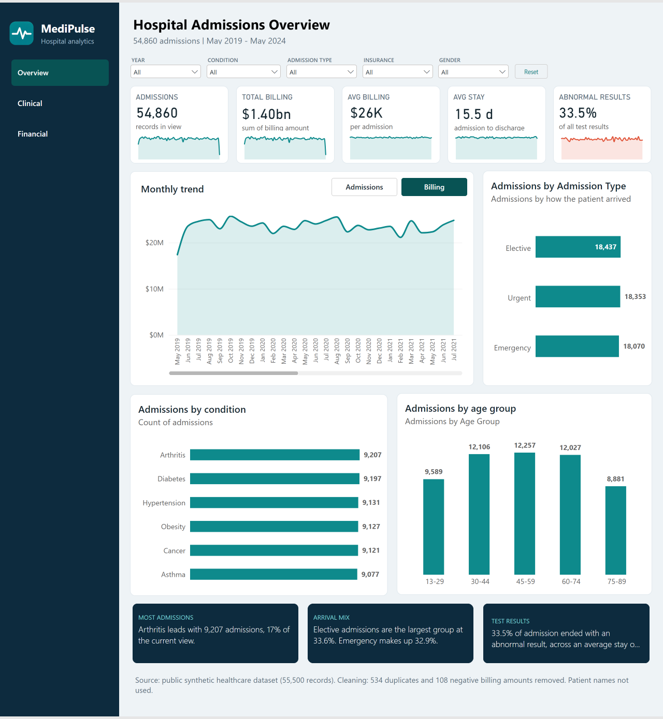

The page's visual inventory and layout, read from the dashboard file:
{"tool":"powerbi","page":{"name":"Overview","canvas":[1280,1380],"ordinal":0},"visuals":[{"type":"textbox","box":[247,15,489,53],"z":0,"group":"g1"},{"type":"image","box":[8.9,27.9,66,62],"z":0,"group":"g7"},{"type":"slicer","title":"YEAR","fields":{"Values":["Dim_Date.Year"]},"box":[247.5,115,146,37],"z":0,"group":"g2"},{"type":"slicer","title":"YEAR","fields":{"Values":["Fact_Admissions.Medical Condition"]},"box":[394.2,115,153,37],"z":0,"group":"g3"},{"type":"slicer","title":"YEAR","fields":{"Values":["Fact_Admissions.Admission Type"]},"box":[548,115,146,37],"z":0,"group":"g4"},{"type":"slicer","title":"YEAR","fields":{"Values":["Fact_Admissions.Insurance Provider"]},"box":[694.7,115,146,37],"z":0,"group":"g5"},{"type":"slicer","title":"YEAR","fields":{"Values":["Fact_Admissions.Gender"]},"box":[841.5,115,146,37],"z":0,"group":"g6"},{"type":"shape","title":"ADMISSIONS","box":[251.4,161,190,150],"z":0,"group":"g12"},{"type":"shape","title":"TOTAL BILLING","box":[455.6,161,190,150],"z":0,"group":"g8"},{"type":"shape","title":"AVG BILLING","box":[659.8,161,190,150],"z":0,"group":"g9"},{"type":"shape","title":"AVG STAY","box":[863.9,161,190,150],"z":0,"group":"g10"},{"type":"shape","title":"ABNORMAL RESULTS","box":[1068.1,161,189.4,150],"z":0,"group":"g11"},{"type":"shape","title":"Monthly  trend","box":[251.1,325.7,663.8,415],"z":0},{"type":"shape","box":[0,0,230,1380],"z":1000},{"type":"textbox","box":[69.4,26.7,152.9,64.4],"z":1000,"group":"g7"},{"type":"textbox","box":[247.2,54.3,492.5,26.2],"z":1000,"group":"g1"},{"type":"textbox","box":[254.3,99,132.3,20.7],"z":1000,"group":"g2"},{"type":"textbox","box":[401.4,99,138.7,20.7],"z":1000,"group":"g3"},{"type":"textbox","box":[554.8,99,132.3,20.7],"z":1000,"group":"g4"},{"type":"textbox","box":[701.5,99,132.3,20.7],"z":1000,"group":"g5"},{"type":"textbox","box":[848.3,99,132.3,20.7],"z":1000,"group":"g6"},{"type":"cardVisual","fields":{"Data":["Measures Table.Admissions"]},"box":[257.8,194.9,129.7,54.3],"z":1000,"group":"g12"},{"type":"cardVisual","fields":{"Data":["Measures Table.Avg Billing"]},"box":[666.2,194.9,129.7,54.3],"z":1000,"group":"g9"},{"type":"cardVisual","fields":{"Data":["Measures Table.Adnormal Rate"]},"box":[1074.5,194.9,129.4,54.3],"z":1000,"group":"g11"},{"type":"cardVisual","fields":{"Data":["Measures Table.Total Billing"]},"box":[461.9,201.1,162.2,47.8],"z":1000,"group":"g8"},{"type":"cardVisual","fields":{"Data":["Measures Table.Avg LOS"]},"box":[872,201.1,153.3,47.8],"z":1000,"group":"g10"},{"type":"group","id":"g1","title":"Group 1","box":[247,15,492.7,65.5],"z":2000},{"type":"lineChart","fields":{"Category":["Dim_Date.Month Start"],"Y":["Measures Table.Admissions"]},"box":[257.9,249.5,176.8,54.3],"z":2000,"group":"g12"},{"type":"lineChart","fields":{"Category":["Dim_Date.Month Start"],"Y":["Measures Table.Total Billing"]},"box":[462.1,249.5,176.8,54.3],"z":2000,"group":"g8"},{"type":"lineChart","fields":{"Category":["Dim_Date.Month Start"],"Y":["Measures Table.Avg Billing"]},"box":[666.3,249.5,176.8,54.3],"z":2000,"group":"g9"},{"type":"lineChart","fields":{"Category":["Dim_Date.Month Start"],"Y":["Measures Table.Avg LOS"]},"box":[870.4,249.5,176.8,54.3],"z":2000,"group":"g10"},{"type":"lineChart","fields":{"Category":["Dim_Date.Month Start"],"Y":["Measures Table.Adnormal Rate"]},"box":[1074.6,249.5,176.3,54.3],"z":2000,"group":"g11"},{"type":"group","id":"g2","title":"Group 2","box":[247.5,99,146,53],"z":3000},{"type":"group","id":"g3","title":"Group 2","box":[394.2,99,153,53],"z":4000},{"type":"group","id":"g4","title":"Group 2","box":[548,99,146,53],"z":5000},{"type":"group","id":"g5","title":"Group 2","box":[694.7,99,146,53],"z":6000},{"type":"group","id":"g6","title":"Group 2","box":[841.5,99,146,53],"z":7000},{"type":"actionButton","box":[992.7,118.2,65.5,30],"z":8000},{"type":"group","id":"g7","title":"Group 3","box":[8.9,26.7,213.3,64.4],"z":9000},{"type":"group","id":"g8","title":"Group 4","box":[455.6,161,190,150],"z":10000},{"type":"group","id":"g9","title":"Group 4","box":[659.8,161,190,150],"z":11000},{"type":"group","id":"g10","title":"Group 4","box":[863.9,161,190,150],"z":12000},{"type":"group","id":"g11","title":"Group 4","box":[1068.1,161,190,150],"z":13000},{"type":"group","id":"g12","title":"Group 4","box":[251.4,161,190,150],"z":14000},{"type":"areaChart","fields":{"Category":["Dim_Date.Month Label"],"Y":["Measures Table.Total Billing"]},"box":[269.9,395.7,632.5,332.5],"z":15000},{"type":"advancedSlicerVisual","fields":{"Values":["Trend Metric.Trend Metric"]},"box":[639.9,339.4,262.5,35],"z":16000},{"type":"clusteredBarChart","fields":{"Category":["Fact_Admissions.Admission Type"],"Y":["Measures Table.Admissions"]},"box":[931.6,325.4,327,416],"z":17000},{"type":"clusteredBarChart","title":"Admissions by condition","fields":{"Category":["Fact_Admissions.Medical Condition"],"Y":["Measures Table.Admissions"]},"box":[251.1,756.6,497.3,390],"z":18000},{"type":"clusteredColumnChart","title":"Admissions by age group","fields":{"Category":["Fact_Admissions.Age Group"],"Y":["Measures Table.Admissions"]},"box":[765.9,755.3,492.9,390],"z":19000},{"type":"cardVisual","fields":{"Data":["Measures Table.Insight - Most Admissions"]},"box":[251.1,1156.7,330,125.6],"z":20000},{"type":"cardVisual","fields":{"Data":["Measures Table.Insight - Arrival Mix"]},"box":[588.9,1156.7,330,125.6],"z":21000},{"type":"cardVisual","fields":{"Data":["Measures Table.Insight - Test Results"]},"box":[927.8,1156.7,331.1,125.6],"z":22000},{"type":"pageNavigator","box":[12,102,208,187],"z":23000},{"type":"textbox","box":[251.1,1291.1,1007.8,62.2],"z":23001}]}

Visuals, with their boxes on the page's 1280x1380 design canvas (x1, y1, x2, y2). These are canvas units, not pixel positions in the 663x719 screenshot, which may show the page scaled, cropped or inside an application window:
textbox: box(247, 15, 736, 68)
image: box(9, 28, 75, 90)
"YEAR" slicer: box(248, 115, 394, 152)
"YEAR" slicer: box(394, 115, 547, 152)
"YEAR" slicer: box(548, 115, 694, 152)
"YEAR" slicer: box(695, 115, 841, 152)
"YEAR" slicer: box(842, 115, 988, 152)
"ADMISSIONS" shape: box(251, 161, 441, 311)
"TOTAL BILLING" shape: box(456, 161, 646, 311)
"AVG BILLING" shape: box(660, 161, 850, 311)
"AVG STAY" shape: box(864, 161, 1054, 311)
"ABNORMAL RESULTS" shape: box(1068, 161, 1258, 311)
"Monthly  trend" shape: box(251, 326, 915, 741)
shape: box(0, 0, 230, 1380)
textbox: box(69, 27, 222, 91)
textbox: box(247, 54, 740, 80)
textbox: box(254, 99, 387, 120)
textbox: box(401, 99, 540, 120)
textbox: box(555, 99, 687, 120)
textbox: box(702, 99, 834, 120)
textbox: box(848, 99, 981, 120)
cardVisual - Measures Table.Admissions: box(258, 195, 388, 249)
cardVisual - Measures Table.Avg Billing: box(666, 195, 796, 249)
cardVisual - Measures Table.Adnormal Rate: box(1074, 195, 1204, 249)
cardVisual - Measures Table.Total Billing: box(462, 201, 624, 249)
cardVisual - Measures Table.Avg LOS: box(872, 201, 1025, 249)
"Group 1" group: box(247, 15, 740, 80)
lineChart - Dim_Date.Month Start x Measures Table.Admissions: box(258, 250, 435, 304)
lineChart - Dim_Date.Month Start x Measures Table.Total Billing: box(462, 250, 639, 304)
lineChart - Dim_Date.Month Start x Measures Table.Avg Billing: box(666, 250, 843, 304)
lineChart - Dim_Date.Month Start x Measures Table.Avg LOS: box(870, 250, 1047, 304)
lineChart - Dim_Date.Month Start x Measures Table.Adnormal Rate: box(1075, 250, 1251, 304)
"Group 2" group: box(248, 99, 394, 152)
"Group 2" group: box(394, 99, 547, 152)
"Group 2" group: box(548, 99, 694, 152)
"Group 2" group: box(695, 99, 841, 152)
"Group 2" group: box(842, 99, 988, 152)
actionButton: box(993, 118, 1058, 148)
"Group 3" group: box(9, 27, 222, 91)
"Group 4" group: box(456, 161, 646, 311)
"Group 4" group: box(660, 161, 850, 311)
"Group 4" group: box(864, 161, 1054, 311)
"Group 4" group: box(1068, 161, 1258, 311)
"Group 4" group: box(251, 161, 441, 311)
areaChart - Dim_Date.Month Label x Measures Table.Total Billing: box(270, 396, 902, 728)
advancedSlicerVisual - Trend Metric.Trend Metric: box(640, 339, 902, 374)
clusteredBarChart - Fact_Admissions.Admission Type x Measures Table.Admissions: box(932, 325, 1259, 741)
"Admissions by condition" clusteredBarChart: box(251, 757, 748, 1147)
"Admissions by age group" clusteredColumnChart: box(766, 755, 1259, 1145)
cardVisual - Measures Table.Insight - Most Admissions: box(251, 1157, 581, 1282)
cardVisual - Measures Table.Insight - Arrival Mix: box(589, 1157, 919, 1282)
cardVisual - Measures Table.Insight - Test Results: box(928, 1157, 1259, 1282)
pageNavigator: box(12, 102, 220, 289)
textbox: box(251, 1291, 1259, 1353)
